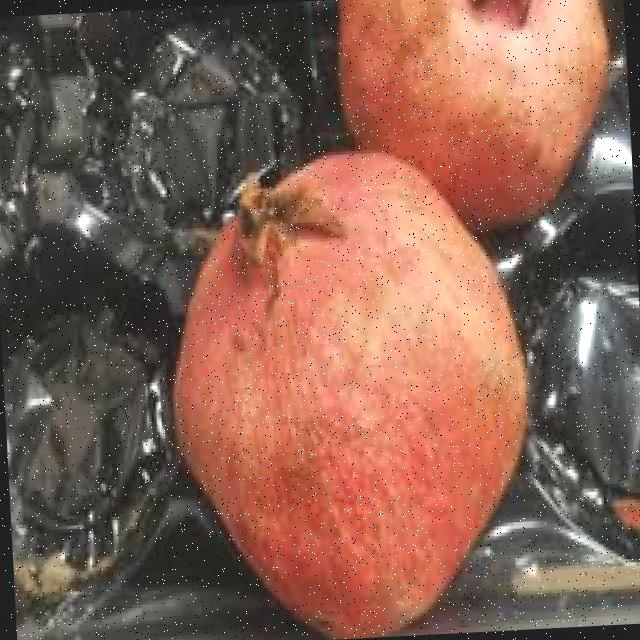overripe: (154, 135, 549, 640)
